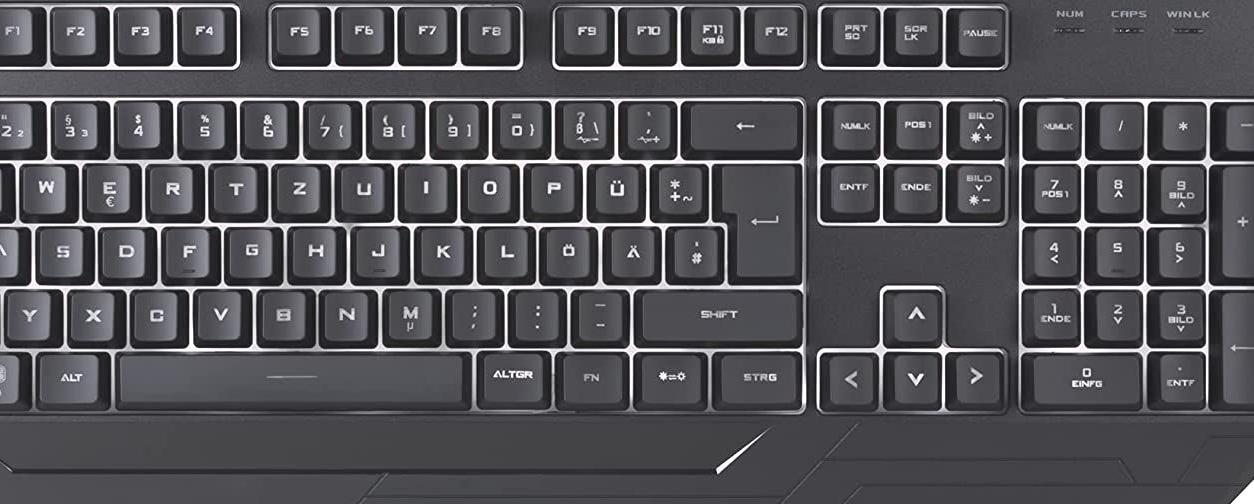0: (490, 95, 549, 151)
1: (1, 98, 25, 150)
2: (1, 95, 34, 151)
3: (51, 98, 101, 151)
4: (113, 95, 163, 149)
5: (176, 96, 231, 151)
6: (239, 95, 294, 151)
7: (302, 95, 354, 151)
8: (364, 98, 419, 153)
9: (427, 98, 483, 151)
a: (1, 222, 25, 278)
accent: (617, 97, 675, 152)
ae: (604, 220, 657, 278)
alt-left: (34, 347, 103, 404)
altgr-right: (474, 346, 549, 405)
b: (255, 284, 310, 340)
c: (129, 284, 180, 340)
caret: (1, 95, 24, 150)
comma: (446, 284, 498, 340)
d: (98, 222, 147, 277)
del: (985, 1, 1254, 94), (683, 96, 800, 152)
e: (81, 158, 133, 215)
enter: (713, 155, 798, 279)
f: (161, 221, 210, 277)
g: (224, 221, 273, 277)
h: (287, 221, 338, 277)
hash: (666, 220, 721, 278)
i: (398, 159, 449, 212)
j: (351, 220, 402, 277)
k: (413, 220, 467, 277)
keyboard: (1, 1, 1254, 504)
l: (476, 220, 529, 277)
less: (1, 284, 25, 341)
m: (381, 283, 437, 341)
minus: (572, 284, 625, 341)
n: (319, 285, 372, 341)
o: (460, 159, 514, 213)
oe: (539, 221, 593, 278)
p: (524, 158, 578, 213)
plus: (649, 158, 705, 217)
point: (509, 284, 562, 339)
q: (1, 159, 26, 215)
r: (145, 159, 195, 214)
s: (34, 221, 85, 277)
shift-left: (1, 284, 34, 341)
shift-lock: (1, 222, 42, 278)
shift-right: (636, 284, 800, 342)
space: (114, 347, 469, 408)
ss: (554, 98, 613, 151)
strg-left: (1, 347, 43, 405)
strg-right: (711, 346, 802, 406)
t: (208, 158, 259, 213)
tab: (1, 159, 41, 214)
u: (335, 159, 388, 214)
ue: (588, 159, 642, 214)
v: (193, 284, 245, 340)
w: (19, 159, 68, 213)
x: (66, 284, 117, 340)
y: (3, 284, 52, 340)
z: (271, 159, 322, 213)
